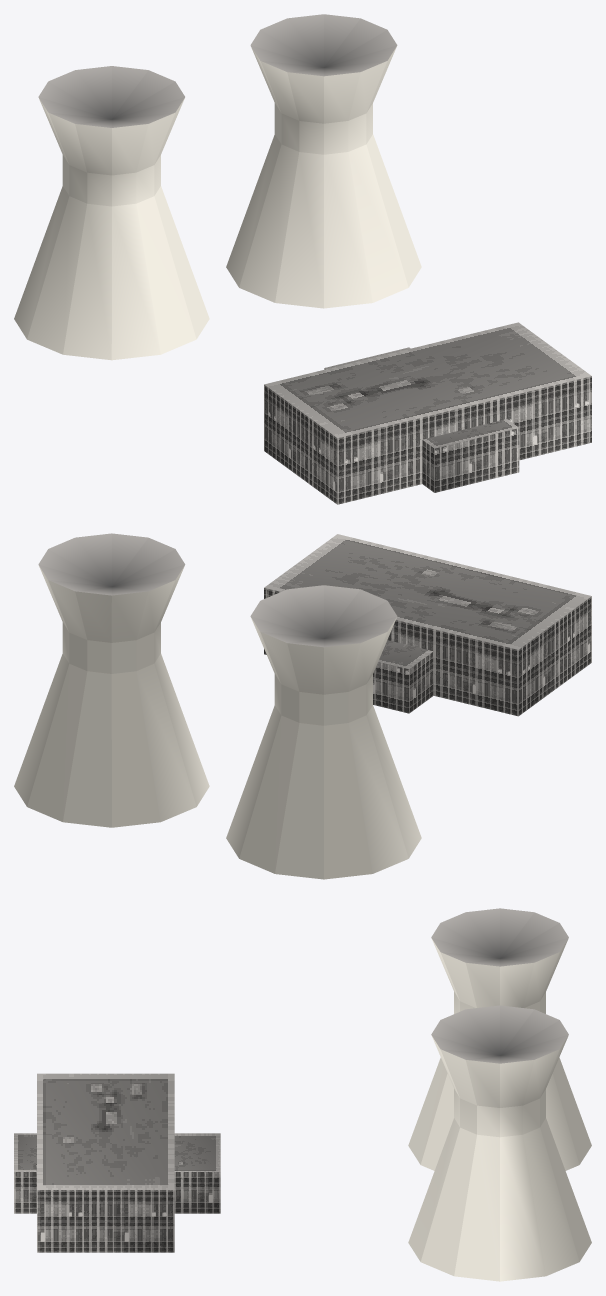
Rendered from uvmd-0143.glb.
3 renders of one model, top to bottom at view 1: azimuth 30°, elevation 25°; view 2: azimuth 150°, elevation 25°; view 3: azimuth 270°, elevation 25°, orthographic. The views are drawn at different scales.
Parts seen in each view (by area): view 1: uvmd-0143; view 2: uvmd-0143; view 3: uvmd-0143.
Part boxes in pixels (<box>): uvmd-0143: <box>14,14,591,504</box>; uvmd-0143: <box>14,533,591,879</box>; uvmd-0143: <box>14,908,591,1281</box>.
Bounding box in the file's own units: 900 × 500 × 1258.
Materials: 3 (3 with a texture image).
